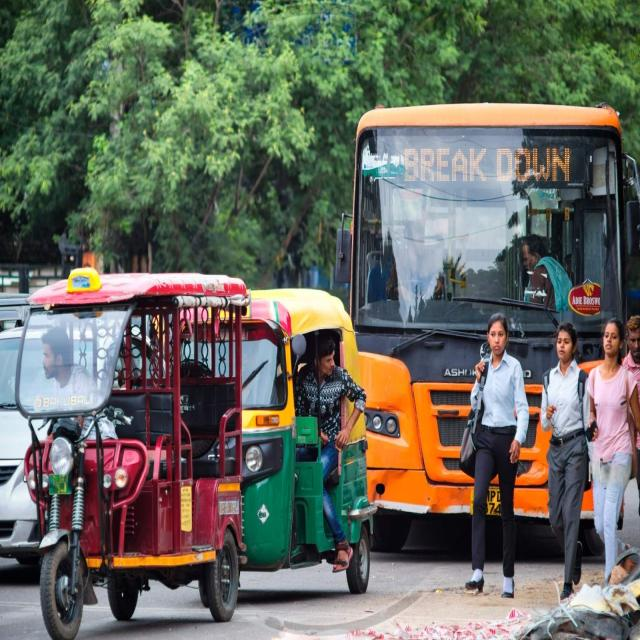autorickshaw: (15, 270, 249, 638), (242, 289, 376, 593)
bus: (351, 105, 632, 549)
